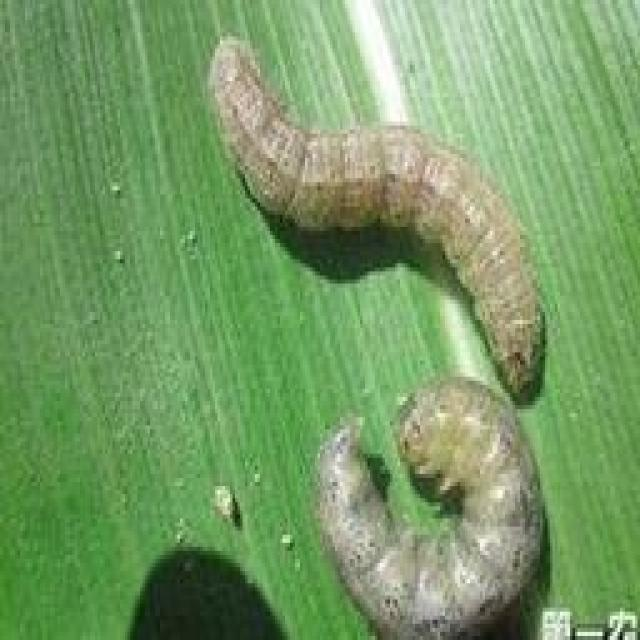black cutworm: (201, 25, 556, 382), (292, 368, 570, 639)
